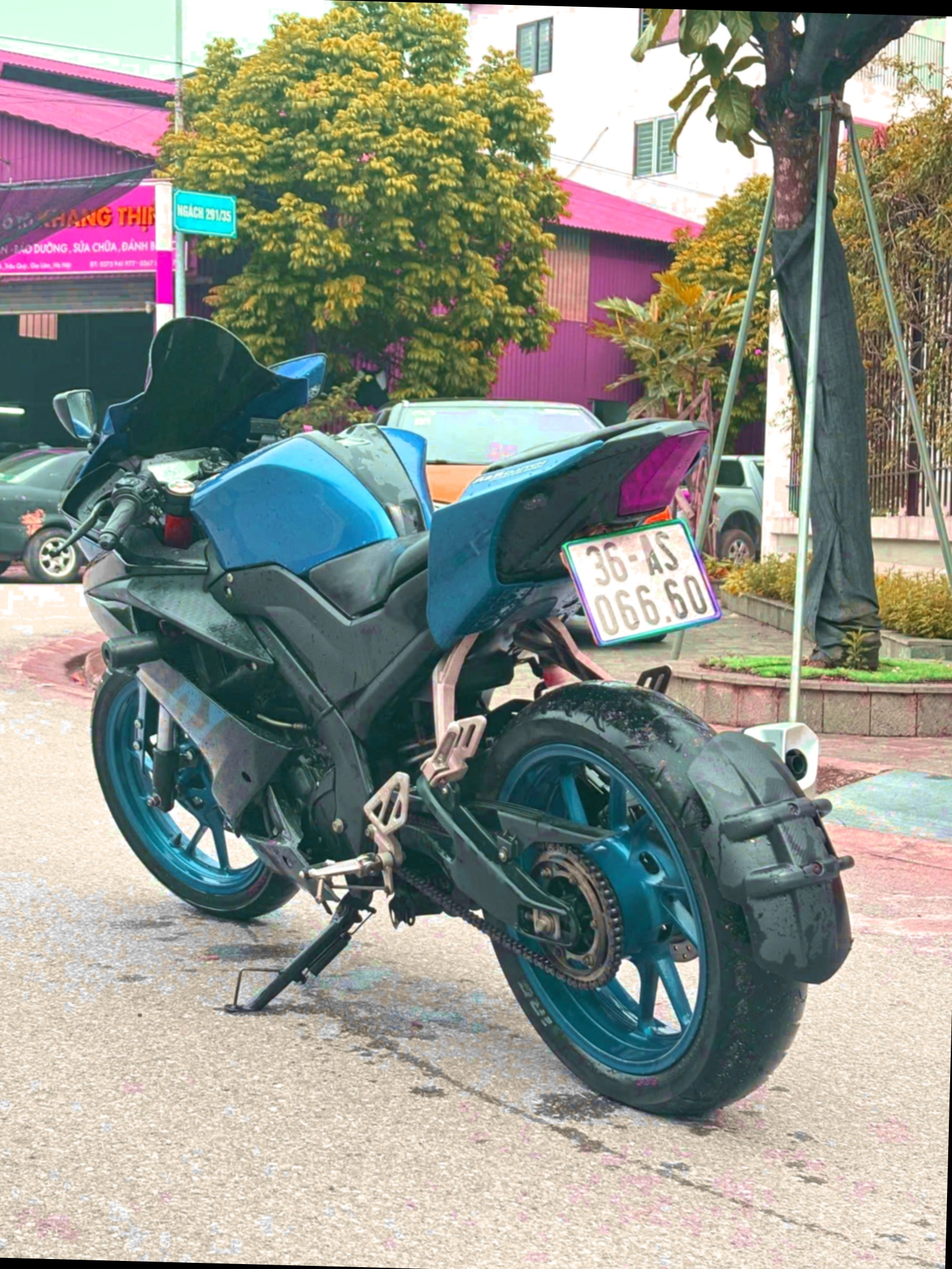Bien-so: (555, 507, 731, 656)
